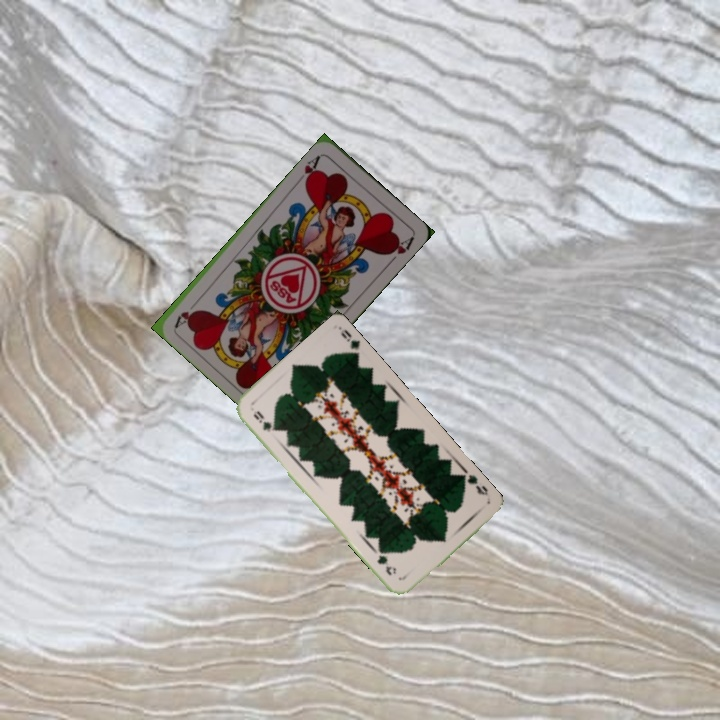G9: (459, 470, 491, 498), (249, 406, 279, 435)
HA: (294, 151, 325, 188)
